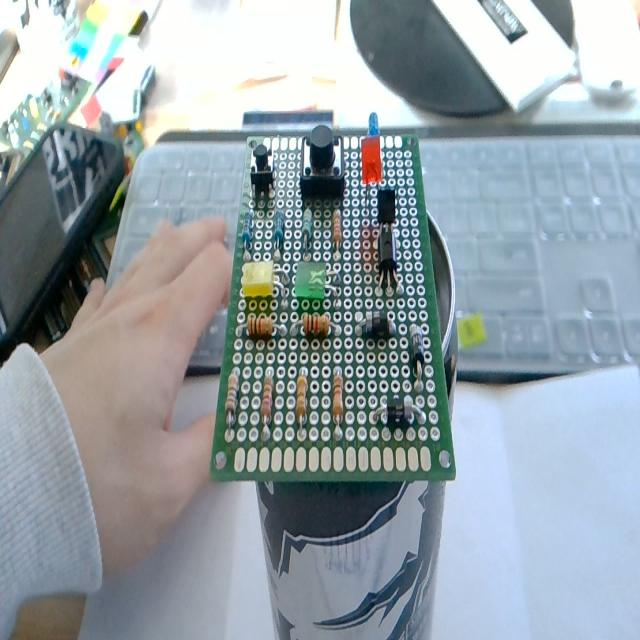diode: (370, 394, 428, 428), (407, 310, 426, 384), (357, 309, 397, 336)
led: (292, 252, 350, 306), (239, 260, 293, 306), (356, 137, 384, 207)
resistor: (218, 366, 242, 442), (240, 308, 286, 342), (294, 310, 336, 345), (294, 364, 314, 436), (258, 361, 276, 436), (330, 359, 347, 434), (269, 205, 289, 263), (296, 200, 314, 260), (239, 208, 255, 260), (331, 205, 345, 263)
switch: (296, 126, 346, 203), (246, 139, 278, 193)
transistor: (376, 229, 404, 290)
